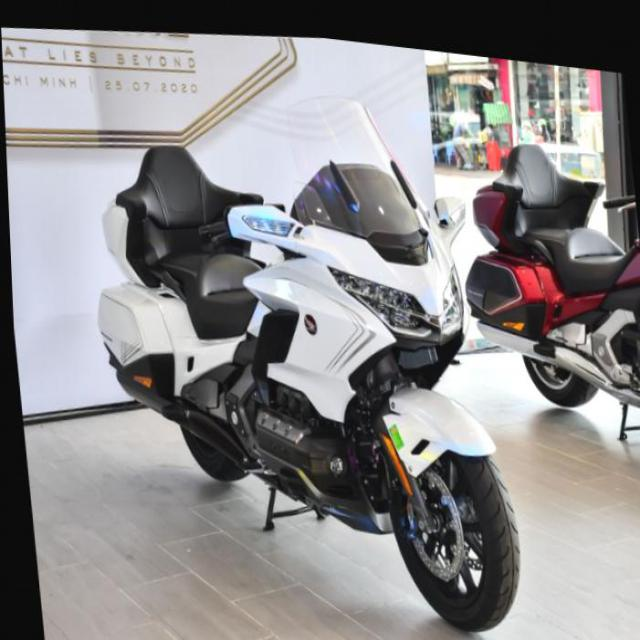Gold Wing: (75, 49, 526, 639), (450, 104, 639, 443)
